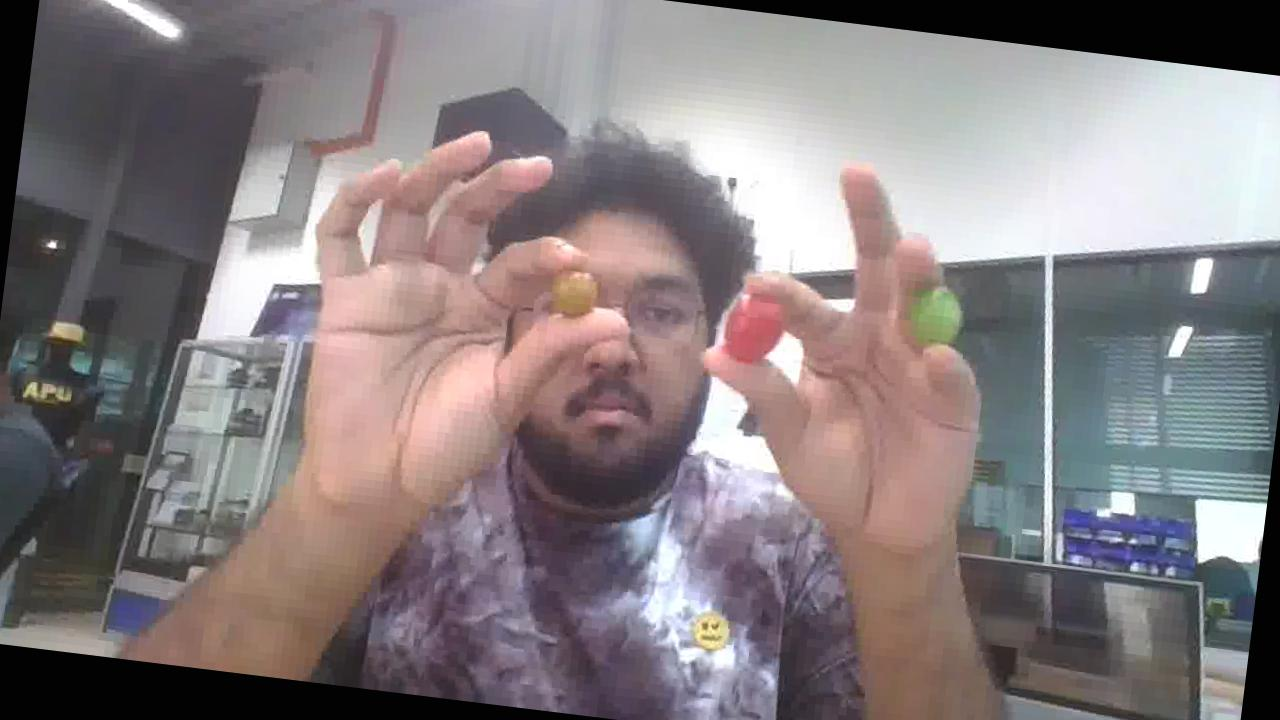green_cherry_tomato: (908, 286, 963, 345)
red_cherry_tomato: (723, 294, 784, 363)
yellow_cherry_tomato: (551, 272, 598, 317)
